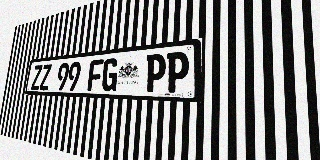9: (67, 61, 82, 91), (56, 62, 70, 90)
F: (87, 59, 104, 91)
G: (101, 58, 119, 91)
P: (165, 51, 189, 93), (144, 53, 166, 92)
Z: (39, 64, 52, 90), (31, 65, 43, 90)
